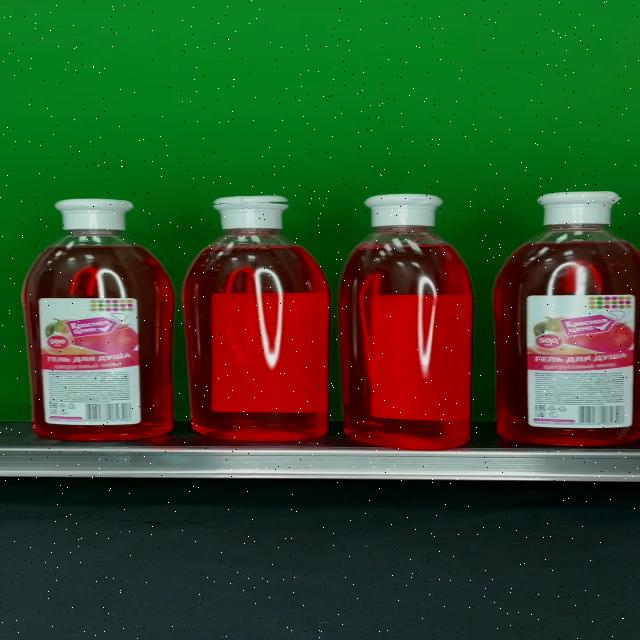Bottle: (494, 191, 640, 446), (23, 197, 173, 441), (182, 195, 330, 441), (339, 194, 472, 449)
Cap: (536, 192, 623, 226), (362, 195, 444, 228), (214, 195, 291, 229), (56, 198, 134, 230)
